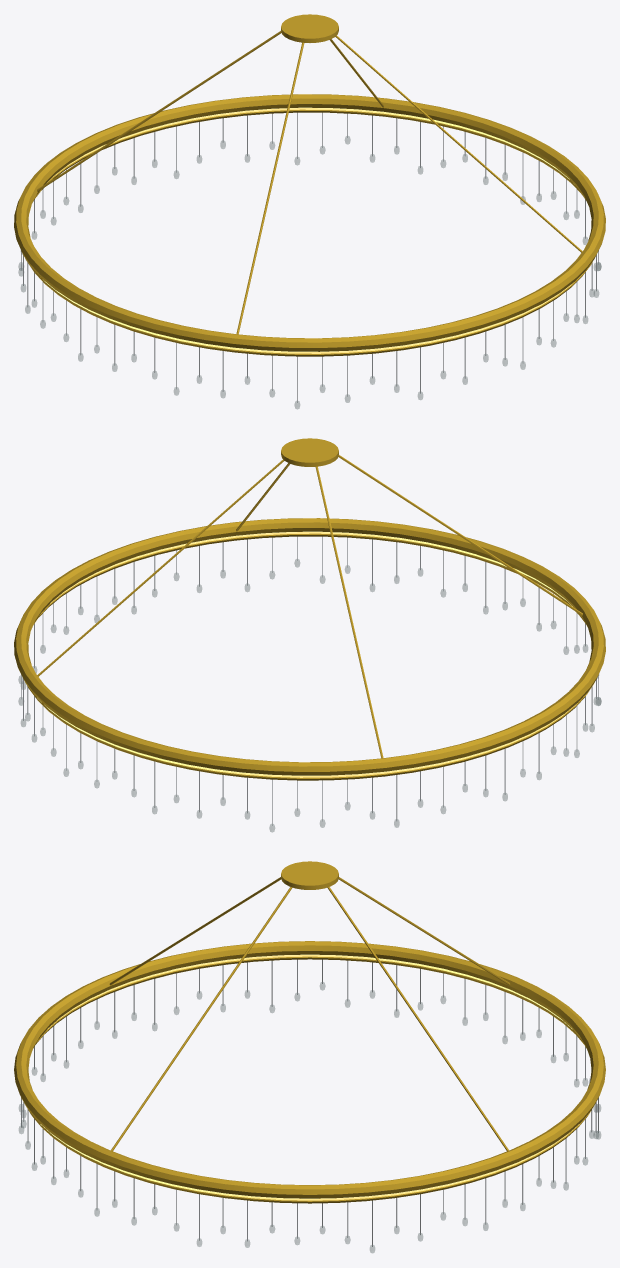
Rendered from prop_chandelier_ring.glb.
The picture shows the model from 3 angles, top to bottom: view 1: azimuth 30°, elevation 25°; view 2: azimuth 150°, elevation 25°; view 3: azimuth 270°, elevation 25°; orthographic projection.
Parts seen in each view (by area): view 1: Chandelier; view 2: Chandelier; view 3: Chandelier.
Boxes of the visible parts, left/top/right/bottom form: Chandelier: left=14, top=14, right=605, bottom=409; Chandelier: left=14, top=438, right=605, bottom=832; Chandelier: left=14, top=861, right=605, bottom=1253.
Bounding box in the file's own units: 2.46 × 1.2 × 2.46.
